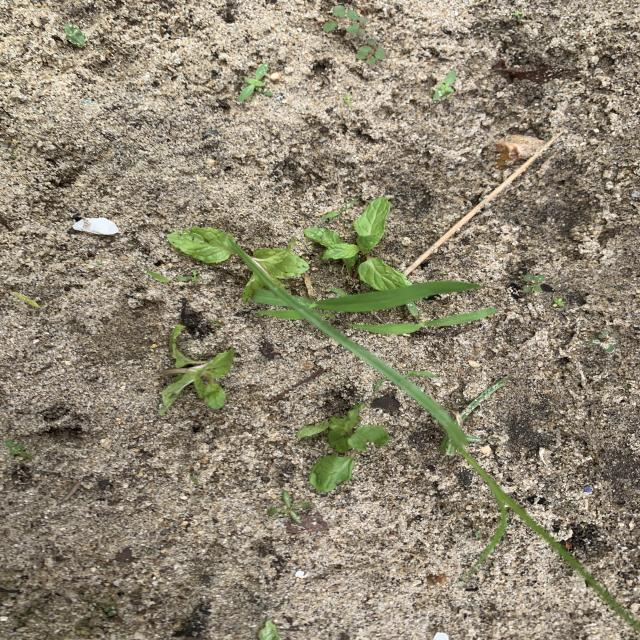crop: (167, 226, 309, 301), (305, 198, 408, 290), (298, 404, 388, 491), (160, 324, 235, 413), (259, 620, 279, 639)
weed: (228, 236, 640, 631), (320, 280, 479, 308), (349, 309, 495, 335), (323, 5, 367, 34), (269, 492, 310, 523), (238, 64, 272, 101), (355, 40, 386, 64), (148, 268, 199, 282), (433, 70, 455, 100), (322, 201, 355, 219), (589, 331, 617, 352), (6, 440, 35, 458), (65, 25, 86, 47), (13, 292, 39, 307), (523, 275, 542, 292), (552, 297, 565, 308)
